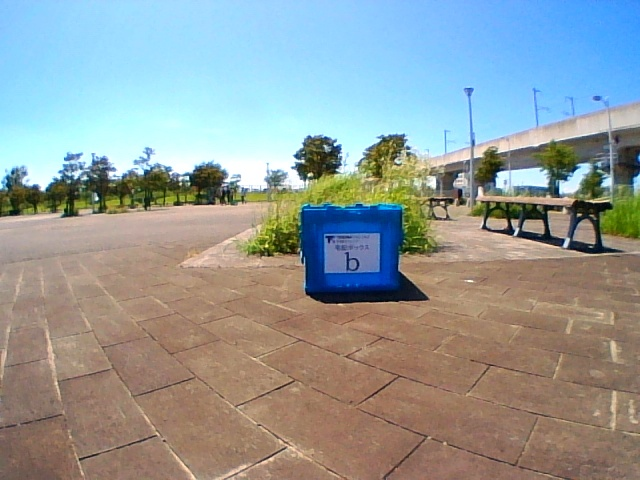blue_box: (308, 207, 395, 289)
tag_b: (326, 235, 379, 271)
